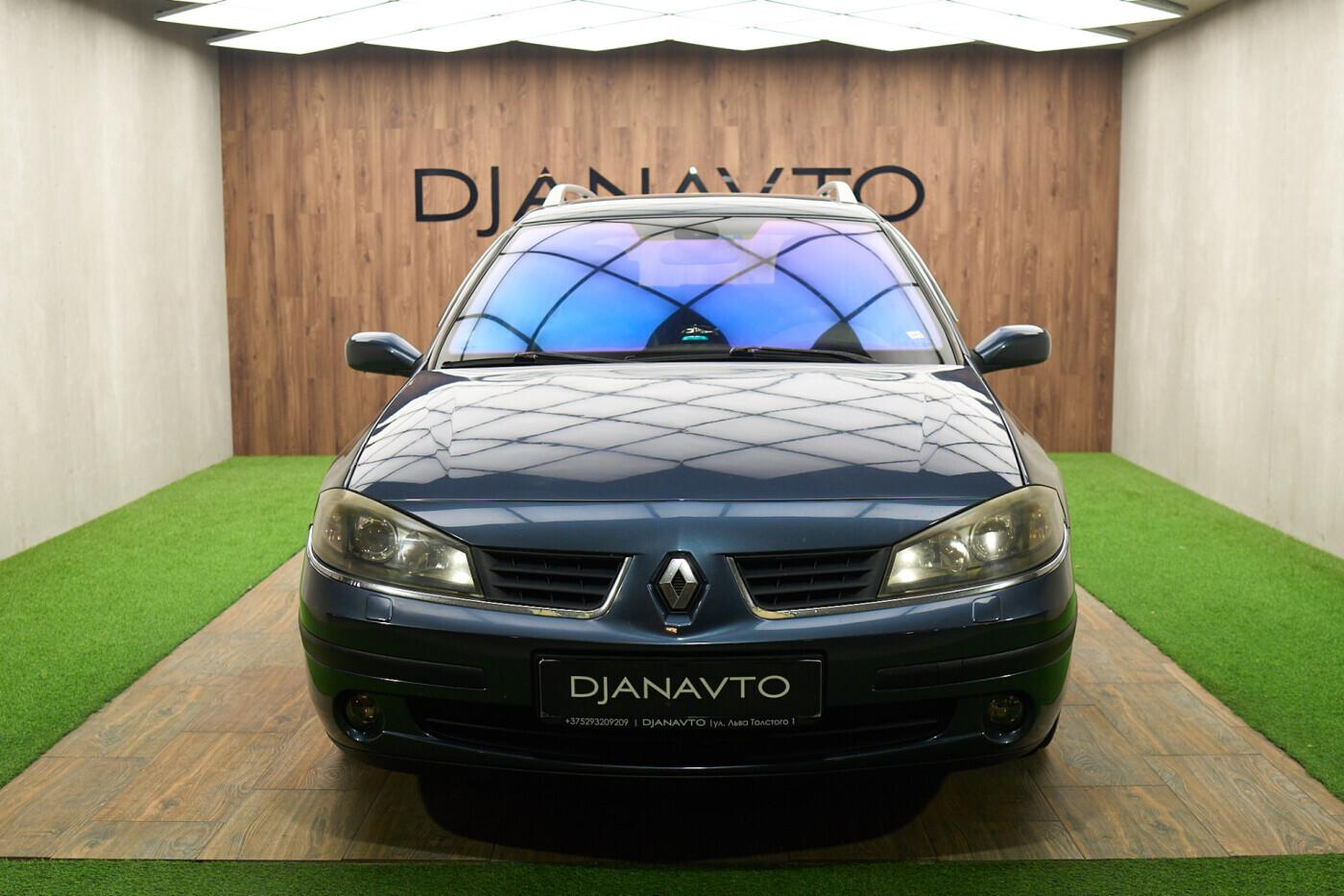Laguna_2005-2007: (281, 193, 1094, 823)
